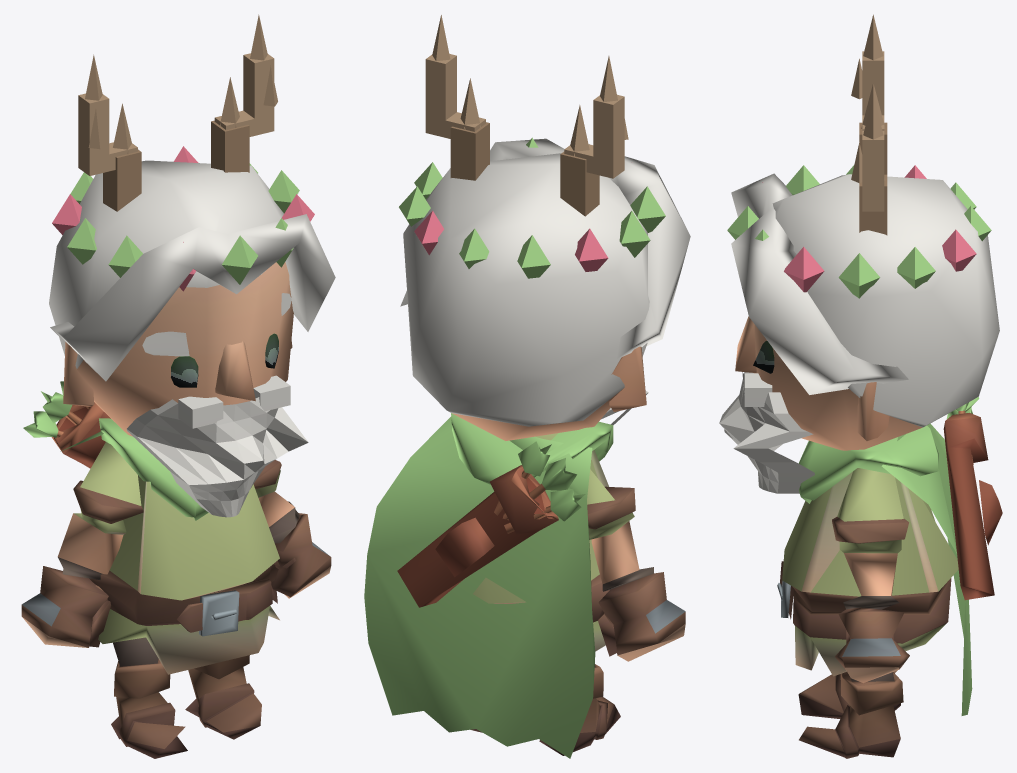
File: hero-druide.glb
3 renders of one model, left to right at view 1: azimuth 30°, elevation 25°; view 2: azimuth 150°, elevation 25°; view 3: azimuth 270°, elevation 25°, orthographic. The views are drawn at different scales.
Visible parts, largest first — view 1: hero:druide; view 2: hero:druide; view 3: hero:druide.
Boxes of the visible parts, x1=… form: hero:druide: x1=21, y1=14, x2=335, y2=758; hero:druide: x1=364, y1=15, x2=690, y2=758; hero:druide: x1=719, y1=14, x2=1002, y2=758.
Bounding box in the file's own units: 0.6993 × 1.61 × 0.6107.
Materials: 1 (1 with a texture image).
